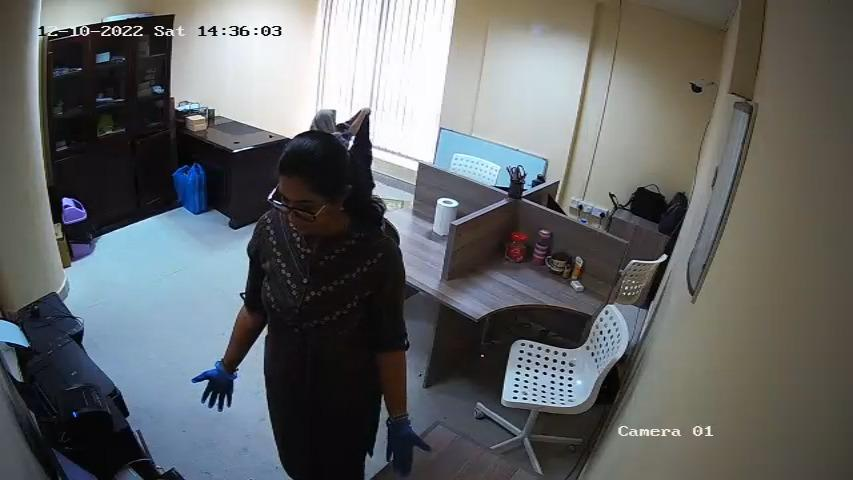gloves: (382, 416, 435, 478), (191, 359, 241, 415)
